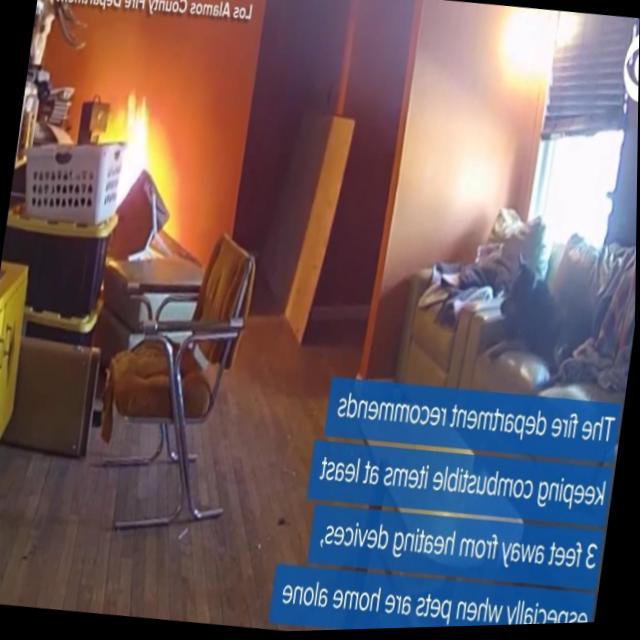fire: (91, 89, 154, 214)
